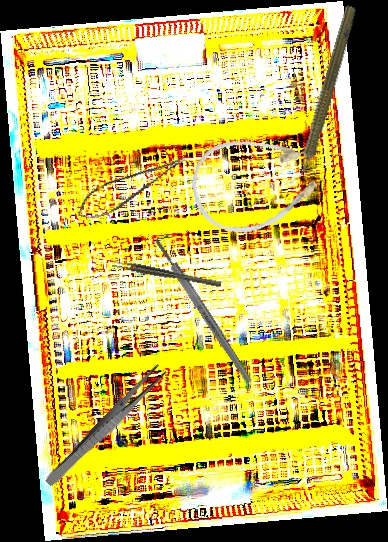Cannula: (184, 124, 333, 242)
Dressing Forceps: (43, 362, 169, 491)
Handpiece: (287, 2, 360, 191)
Micro Scissor: (70, 153, 195, 225)
Scalpel Handle: (151, 236, 255, 386)
Tissue Forceps: (111, 258, 222, 291)
